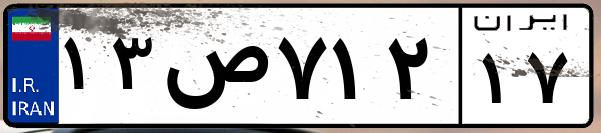1: (330, 28, 385, 110), (57, 26, 110, 100), (475, 38, 525, 113)
2: (385, 28, 445, 110)
3: (110, 28, 158, 98)
7: (270, 28, 330, 110), (525, 38, 570, 115)
ص: (158, 20, 270, 120)
